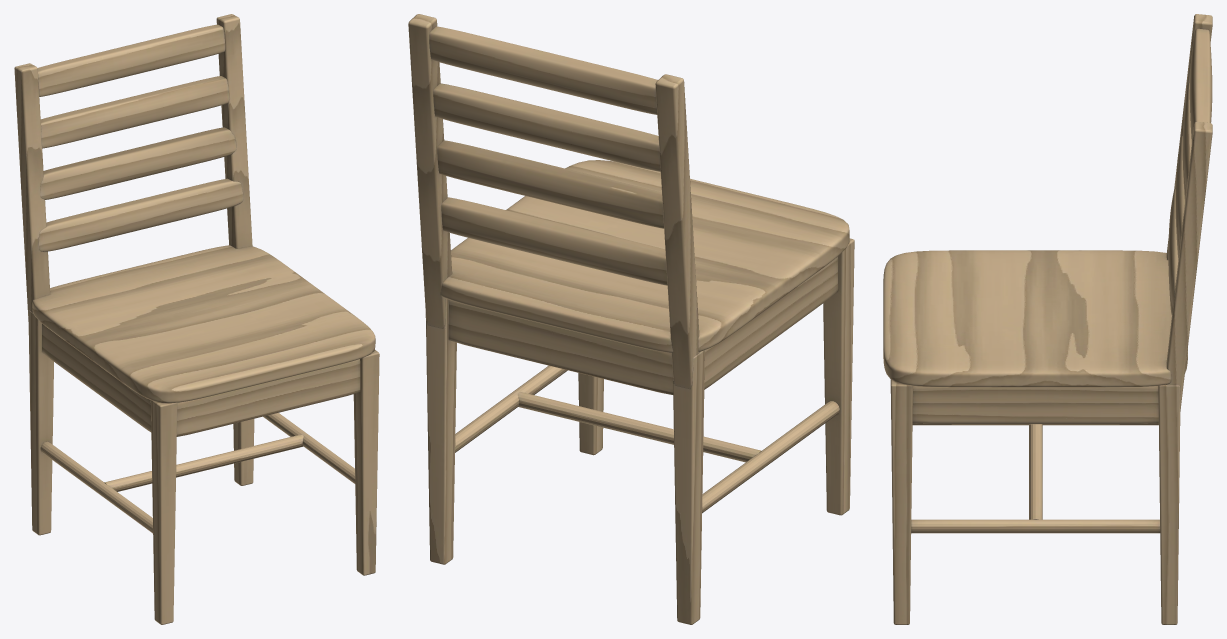
Rendered from ash-ladder-back.glb.
3 renders of one model, left to right at view 1: azimuth 30°, elevation 25°; view 2: azimuth 150°, elevation 25°; view 3: azimuth 270°, elevation 25°, orthographic. The views are drawn at different scales.
Parts seen in each view (by area): view 1: wood_h, wood_v, wood_hy; view 2: wood_h, wood_v, wood_hy; view 3: wood_h, wood_v, wood_hy.
Part boxes in pixels (x1,y1,x2,y2): wood_h: [32, 24, 375, 491]; wood_v: [14, 14, 379, 624]; wood_hy: [40, 323, 355, 533]; wood_h: [429, 26, 849, 462]; wood_v: [408, 14, 854, 624]; wood_hy: [455, 256, 839, 513]; wood_h: [883, 28, 1212, 519]; wood_v: [890, 14, 1212, 624]; wood_hy: [911, 386, 1160, 533].
Size of the model in its own units: 0.47 by 0.8811 by 0.5295.
Materials: 3 (3 with a texture image).
